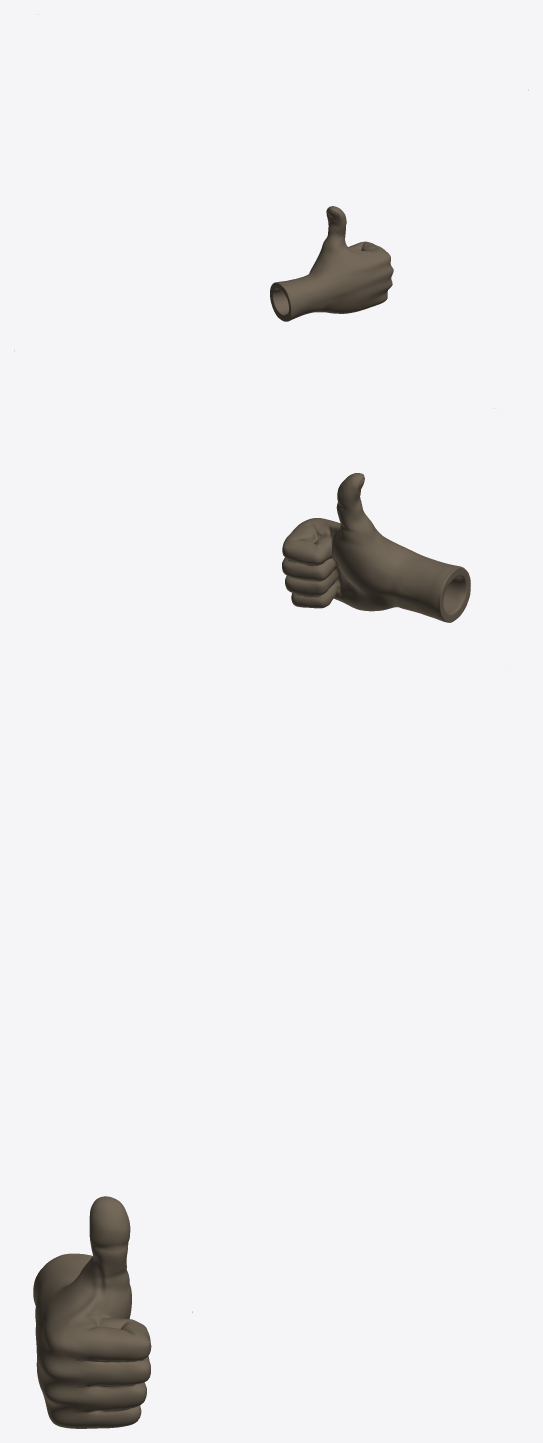
The model's file is testegltf.gltf.
3 views of the same model, one above another, from view 1: azimuth 30°, elevation 25°; view 2: azimuth 150°, elevation 25°; view 3: azimuth 270°, elevation 25° (orthographic). The views are drawn at different scales.
Visible parts, largest first — view 1: 15809_Thumbs_Up_v1; view 2: 15809_Thumbs_Up_v1; view 3: 15809_Thumbs_Up_v1.
Part boxes in pixels (x1=…): 15809_Thumbs_Up_v1: x1=270, y1=206, x2=393, y2=321; 15809_Thumbs_Up_v1: x1=282, y1=473, x2=470, y2=622; 15809_Thumbs_Up_v1: x1=33, y1=1196, x2=151, y2=1428.
Bounding box in the file's own units: 15.35 × 8.98 × 7.26.
